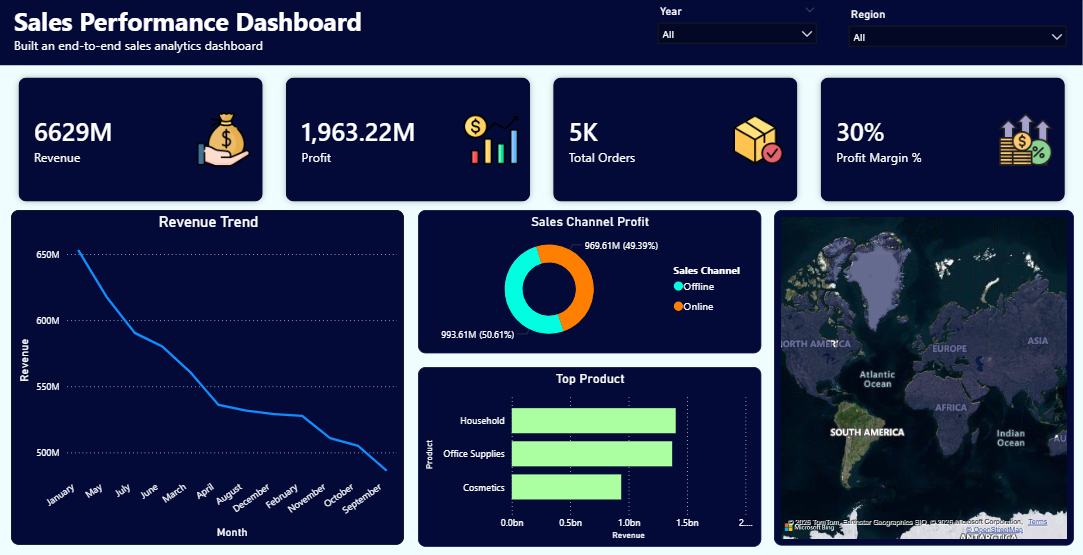

The page's visual inventory and layout, read from the dashboard file:
{"tool":"powerbi","page":{"name":"Page 1","canvas":[1400,720],"ordinal":0},"visuals":[{"type":"shape","box":[0,0,1399.5,86.7],"z":0},{"type":"textbox","box":[15.9,2.9,594.2,54.9],"z":1000},{"type":"slicer","fields":{"Values":["Sales_DB.Region"]},"box":[1088.1,7.5,301.5,79.1],"z":2000},{"type":"slicer","title":"year","fields":{"Values":["Sales_DB.Year"]},"box":[841.8,4.5,225.4,86.6],"z":3000},{"type":"cardVisual","fields":{"Data":["Sales_DB.Revenue","Sales_DB.Profit","Sales_DB.Total Orders","Sales_DB.Profit Margin %"]},"box":[15.9,91.1,1373.5,182.2],"z":4000},{"type":"textbox","box":[15.9,44.8,545.1,39],"z":5000},{"type":"lineChart","title":"Revenue Trend","fields":{"Y":["Sum(Sales_DB.Total Revenue)"],"Category":["Sales_DB.Month"]},"box":[16.6,274,507.3,432],"z":6000},{"type":"filledMap","fields":{"Category":["Sales_DB.Region"]},"box":[1001.7,273.3,386.7,433.2],"z":7000},{"type":"clusteredBarChart","title":"Top Product","fields":{"Category":["Sales_DB.Item Type"],"Y":["Sum(Sales_DB.Total Revenue)"]},"box":[541.9,475.7,442.6,231.8],"z":8000},{"type":"donutChart","title":"Sales Channel Profit","fields":{"Category":["Sales_DB.Sales Channel"],"Y":["Sum(Sales_DB.Total Profit)"]},"box":[541.9,274,442.6,185.2],"z":9000}]}

Visuals, with their boxes in screenshot pixels (x1, y1, x2, y2), scaled from the page's 1400x720 canvas onto the 1083x555 screenshot:
shape: <region>0, 0, 1082, 67</region>
textbox: <region>12, 2, 472, 45</region>
slicer - Sales_DB.Region: <region>842, 6, 1075, 67</region>
"year" slicer: <region>651, 3, 826, 70</region>
cardVisual - Sales_DB.Revenue x Sales_DB.Profit: <region>12, 70, 1075, 211</region>
textbox: <region>12, 35, 434, 65</region>
"Revenue Trend" lineChart: <region>13, 211, 405, 544</region>
filledMap - Sales_DB.Region: <region>775, 211, 1074, 545</region>
"Top Product" clusteredBarChart: <region>419, 367, 762, 545</region>
"Sales Channel Profit" donutChart: <region>419, 211, 762, 354</region>
